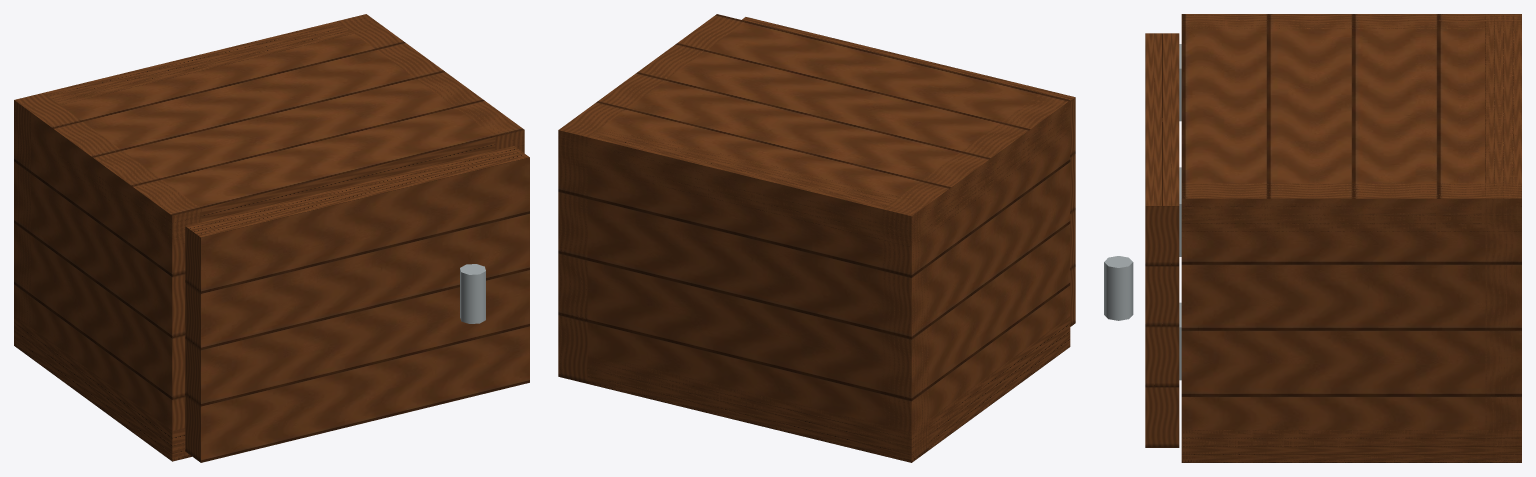
The model's file is suburban-outbreak-interiors-apartment-loot-lockbox-b963ad51__20014.glb.
3 renders of one model, left to right at view 1: azimuth 30°, elevation 25°; view 2: azimuth 150°, elevation 25°; view 3: azimuth 270°, elevation 25°, orthographic. The views are drawn at different scales.
Visible parts, largest first — view 1: apartment-loot-lockbox, cabinet-door-0/wood; view 2: apartment-loot-lockbox, cabinet-door-0/wood; view 3: apartment-loot-lockbox, cabinet-door-0/wood.
Boxes of the visible parts, x1=… form: apartment-loot-lockbox: x1=14, y1=14, x2=524, y2=461; cabinet-door-0/wood: x1=185, y1=146, x2=529, y2=462; apartment-loot-lockbox: x1=558, y1=14, x2=1070, y2=462; cabinet-door-0/wood: x1=742, y1=17, x2=1075, y2=326; apartment-loot-lockbox: x1=1104, y1=14, x2=1521, y2=462; cabinet-door-0/wood: x1=1145, y1=33, x2=1179, y2=447.
Size of the model in its own units: 0.45 by 0.3 by 0.43.
Materials: 2 (1 with a texture image).
